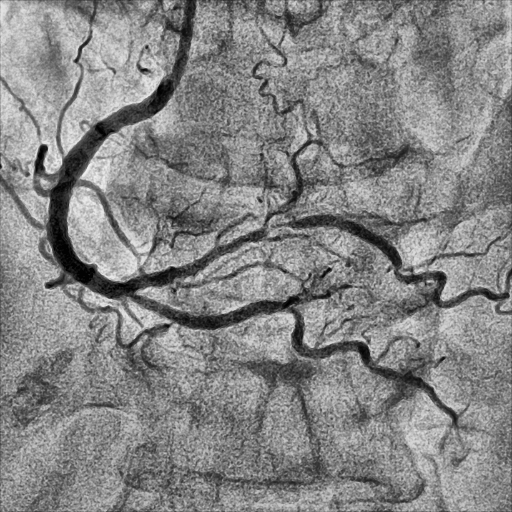pborca: (127, 214, 501, 308)
pda: (115, 292, 458, 426)
rca: (46, 66, 186, 300)
